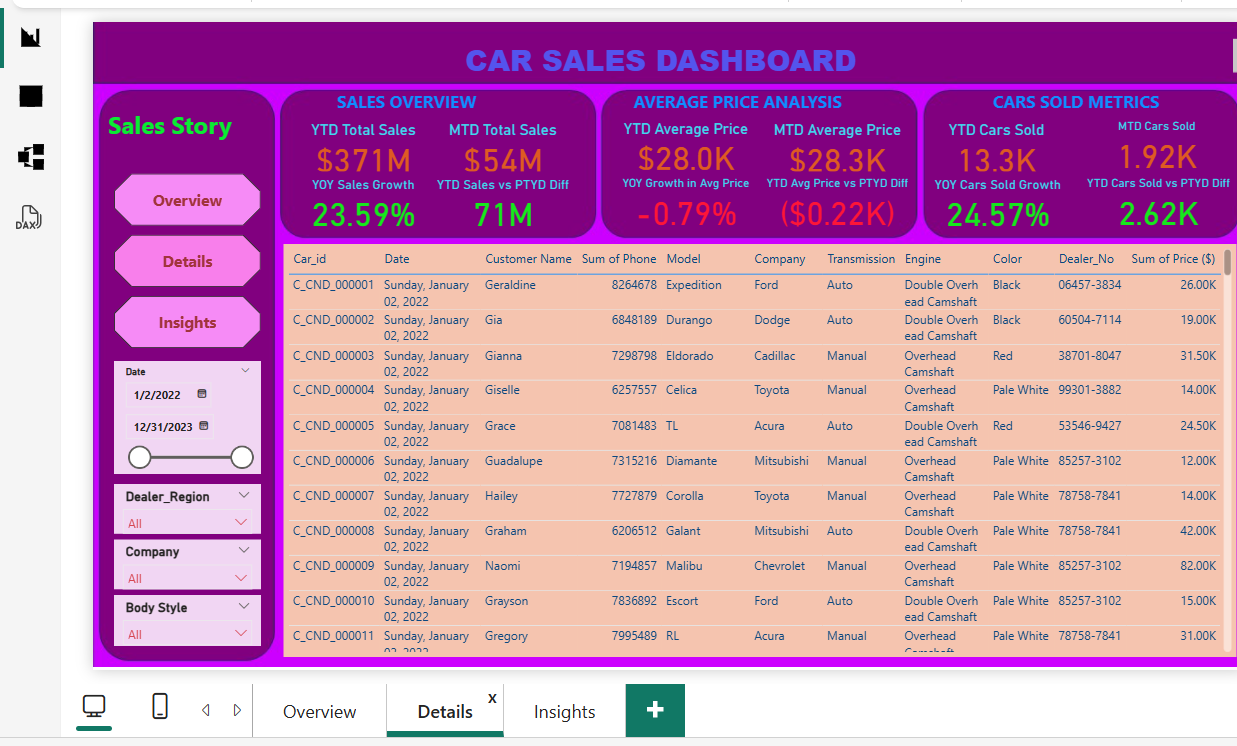

The page's visual inventory and layout, read from the dashboard file:
{"tool":"powerbi","page":{"name":"Details","canvas":[1280,720],"ordinal":1},"visuals":[{"type":"textbox","box":[0,12.8,1279.7,51.1],"z":0},{"type":"textbox","box":[250.8,70.3,193.3,39.9],"z":1000},{"type":"card","title":"YTD Total Sales","fields":{"Values":["car_data.YTD Sales"]},"box":[210.9,110.2,177.3,60.7],"z":2000},{"type":"textbox","box":[968.2,70.3,247.6,39.9],"z":3000},{"type":"textbox","box":[570.4,70.3,292.4,39.9],"z":4000},{"type":"card","title":"YOY Sales Growth ","fields":{"Values":["car_data.YOY Sales Growth"]},"box":[210.9,171,177.3,60.7],"z":5000},{"type":"card","title":"YTD Sales vs PTYD Diff","fields":{"Values":["car_data.YTD Sales vs PTYD Difference"]},"box":[367.5,171,177.3,60.7],"z":6000},{"type":"card","title":"MTD Total Sales","fields":{"Values":["car_data.MTD Sales"]},"box":[367.5,110.2,177.3,60.7],"z":7000},{"type":"card","title":"YTD Average Price","fields":{"Values":["car_data.YTD Average Price"]},"box":[570.4,108.6,177.3,60.7],"z":8000},{"type":"card","title":"MTD Average Price","fields":{"Values":["car_data.MTD Average Price"]},"box":[738.1,110.2,177.3,60.7],"z":9000},{"type":"card","title":"YOY Growth in Avg Price","fields":{"Values":["car_data.YOY Average Price Growth"]},"box":[570.4,171,177.3,60.7],"z":10000},{"type":"card","title":"YTD Avg Price vs PTYD Diff","fields":{"Values":["car_data.YTD Avg Price vs PTYD Difference"]},"box":[738.1,171,177.3,60.7],"z":11000},{"type":"card","title":"YTD Cars Sold","fields":{"Values":["car_data.YTD Cars Sold"]},"box":[915.5,110.2,177.3,60.7],"z":12000},{"type":"card","title":"YOY Cars Sold Growth","fields":{"Values":["car_data.YOY Cars Sold Growth"]},"box":[917.1,171,177.3,60.7],"z":13000},{"type":"card","title":"MTD Cars Sold","fields":{"Values":["car_data.MTD Cars Sold"]},"box":[1092.8,108.6,177.3,60.7],"z":14000},{"type":"card","title":"YTD Cars Sold vs PTYD Diff","fields":{"Values":["car_data.YTD Cars Sold vs PTYD Difference"]},"box":[1094.4,171,177.3,60.7],"z":15000},{"type":"tableEx","fields":{"Values":["car_data.Car_id","car_data.Date","car_data.Customer Name","Sum(car_data.Phone)","car_data.Model","car_data.Company","car_data.Transmission","car_data.Engine","car_data.Color","car_data.Dealer_No ","Sum(car_data.Price ($))"]},"box":[211.7,246.7,1058.3,458.3],"z":16000},{"type":"pageNavigator","box":[23.3,168.3,163.3,195],"z":17000},{"type":"textbox","box":[11.7,90,161.7,56.7],"z":18000},{"type":"slicer","fields":{"Values":["car_data.Date"]},"box":[23.3,376.7,163.3,125],"z":19000},{"type":"slicer","fields":{"Values":["car_data.Dealer_Region"]},"box":[23.3,513.3,163.3,55],"z":20000},{"type":"slicer","fields":{"Values":["car_data.Company"]},"box":[23.3,575,163.3,55],"z":21000},{"type":"slicer","fields":{"Values":["car_data.Body Style"]},"box":[23.3,636.7,163.3,56.7],"z":22000}]}

Visuals, with their boxes on the page's 1280x720 design canvas (x1, y1, x2, y2). These are canvas units, not pixel positions in the 1237x746 screenshot, which may show the page scaled, cropped or inside an application window:
textbox: crop(0, 13, 1280, 64)
textbox: crop(251, 70, 444, 110)
"YTD Total Sales" card: crop(211, 110, 388, 171)
textbox: crop(968, 70, 1216, 110)
textbox: crop(570, 70, 863, 110)
"YOY Sales Growth " card: crop(211, 171, 388, 232)
"YTD Sales vs PTYD Diff" card: crop(368, 171, 545, 232)
"MTD Total Sales" card: crop(368, 110, 545, 171)
"YTD Average Price" card: crop(570, 109, 748, 169)
"MTD Average Price" card: crop(738, 110, 915, 171)
"YOY Growth in Avg Price" card: crop(570, 171, 748, 232)
"YTD Avg Price vs PTYD Diff" card: crop(738, 171, 915, 232)
"YTD Cars Sold" card: crop(916, 110, 1093, 171)
"YOY Cars Sold Growth" card: crop(917, 171, 1094, 232)
"MTD Cars Sold" card: crop(1093, 109, 1270, 169)
"YTD Cars Sold vs PTYD Diff" card: crop(1094, 171, 1272, 232)
tableEx - car_data.Car_id x car_data.Date: crop(212, 247, 1270, 705)
pageNavigator: crop(23, 168, 187, 363)
textbox: crop(12, 90, 173, 147)
slicer - car_data.Date: crop(23, 377, 187, 502)
slicer - car_data.Dealer_Region: crop(23, 513, 187, 568)
slicer - car_data.Company: crop(23, 575, 187, 630)
slicer - car_data.Body Style: crop(23, 637, 187, 693)
